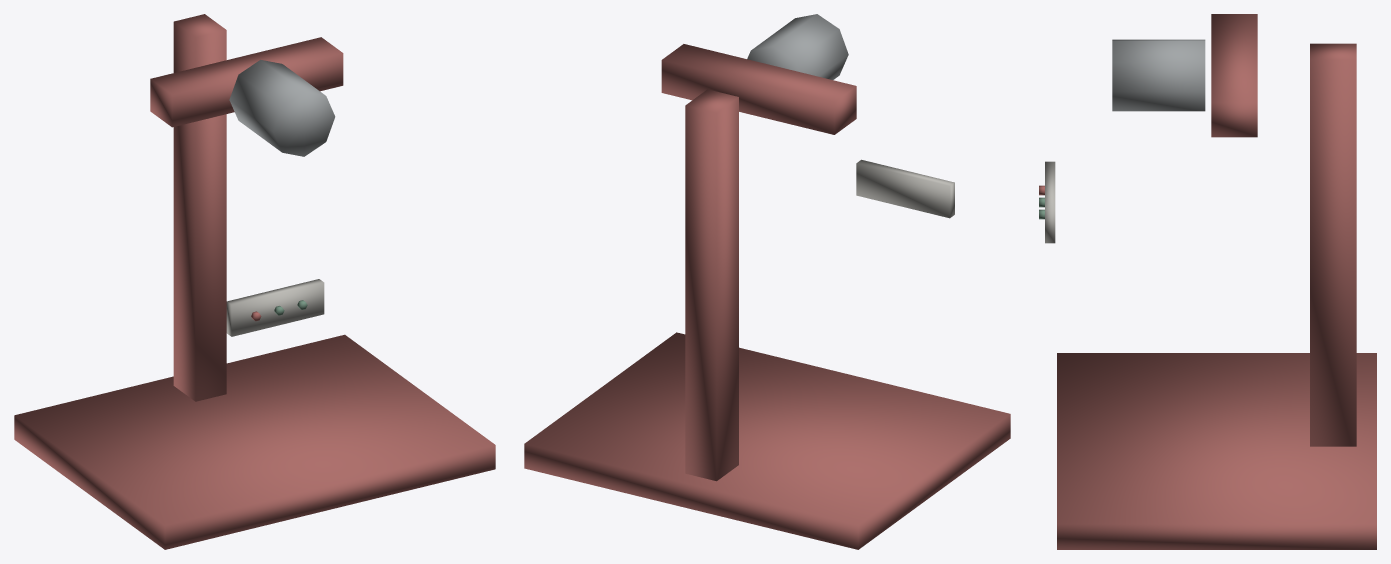
The model's file is engine_stand__deep.glb.
3 views of the same model, side by side, from view 1: azimuth 30°, elevation 25°; view 2: azimuth 150°, elevation 25°; view 3: azimuth 270°, elevation 25° (orthographic). The views are drawn at different scales.
Visible parts, largest first — view 1: world; view 2: world; view 3: world.
Part boxes in pixels (x1=…): world: x1=14, y1=14, x2=495, y2=549; world: x1=524, y1=14, x2=1010, y2=549; world: x1=1039, y1=14, x2=1376, y2=549.
Size of the model in its own units: 0.85 by 0.98 by 0.7088.
